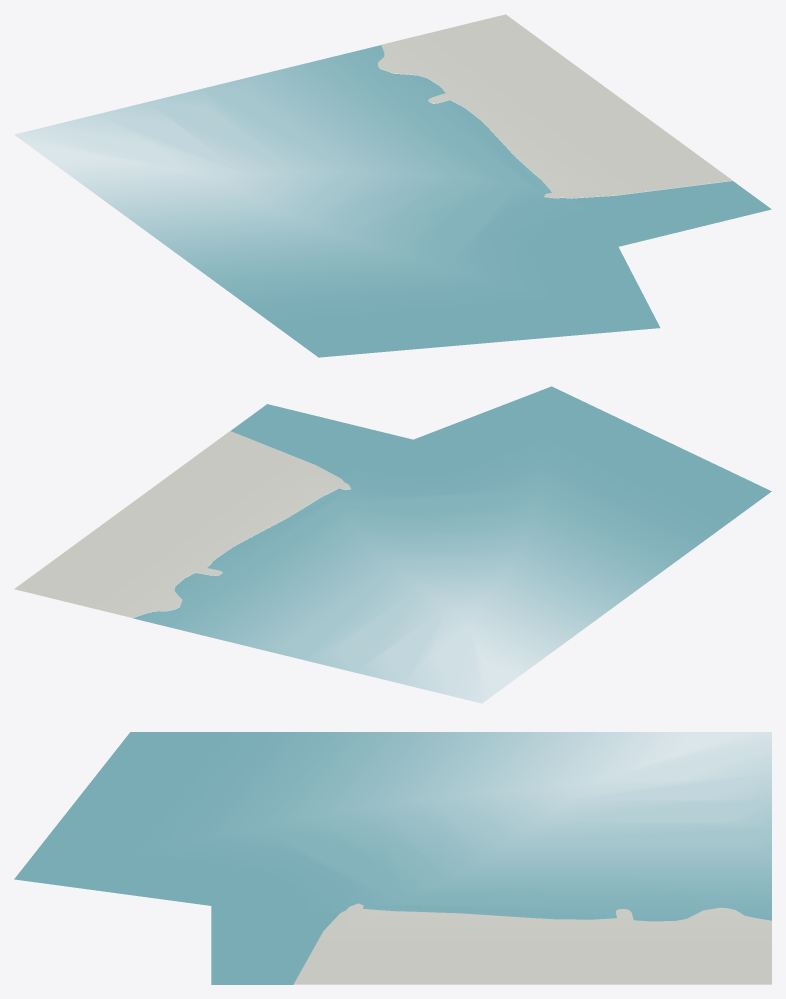
The picture shows the model from 3 angles, top to bottom: view 1: azimuth 30°, elevation 25°; view 2: azimuth 150°, elevation 25°; view 3: azimuth 270°, elevation 25°; orthographic projection. The views are drawn at different scales.
Visible parts, largest first — view 1: city; view 2: city; view 3: city.
Boxes of the visible parts, x1,y1,x2,y2 form: city: (15,14,771,357); city: (14,386,771,702); city: (14,732,771,984).
Size of the model in its own units: 370 by 0.18 by 469.
